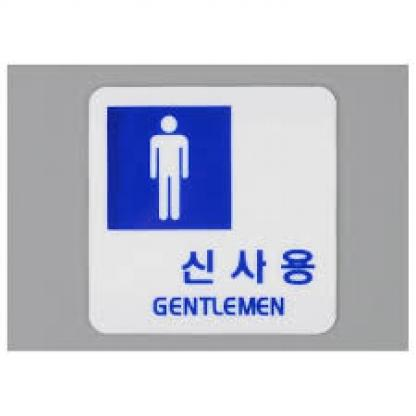toilet: (146, 112, 196, 224)
